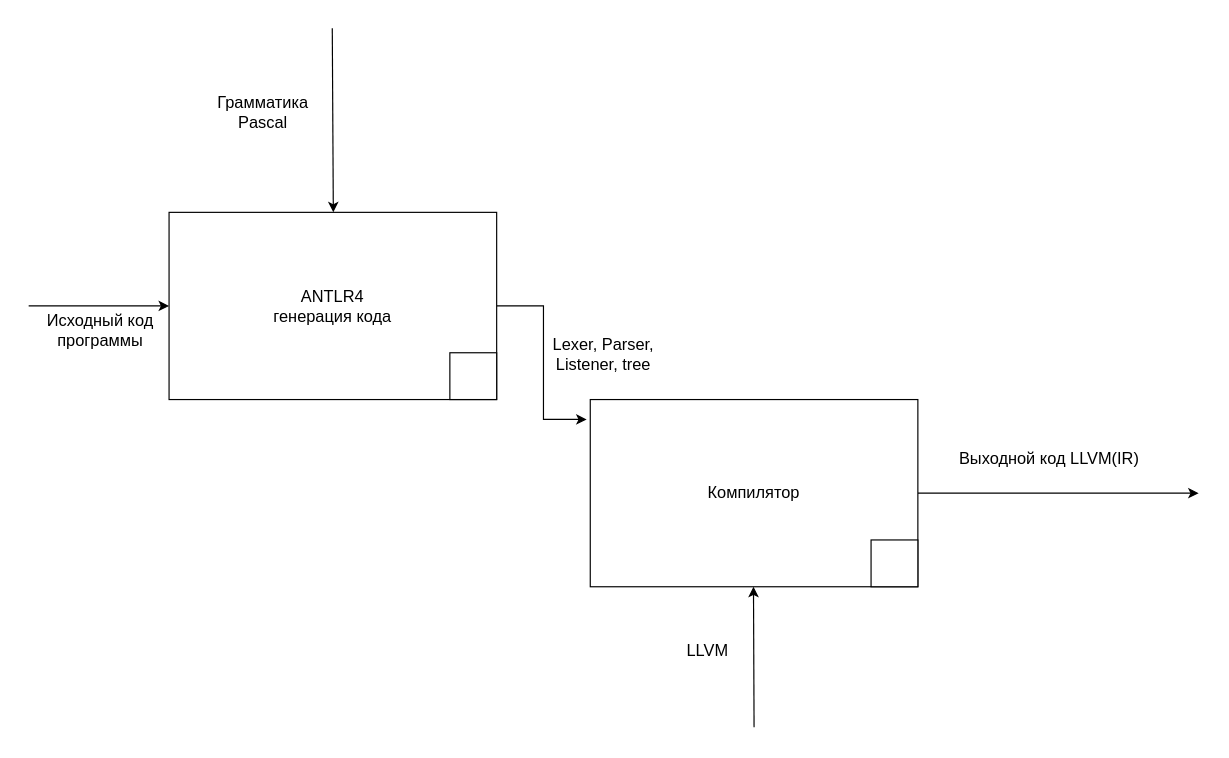
The diagram is 1229 pixels wide and 758 high, and some of its shapes have lost their labels. Here are the shapes that lost their labels. From the top down, the centre of each, then its label:
At point 473,376: "A1".
At point 894,563: "A2".
